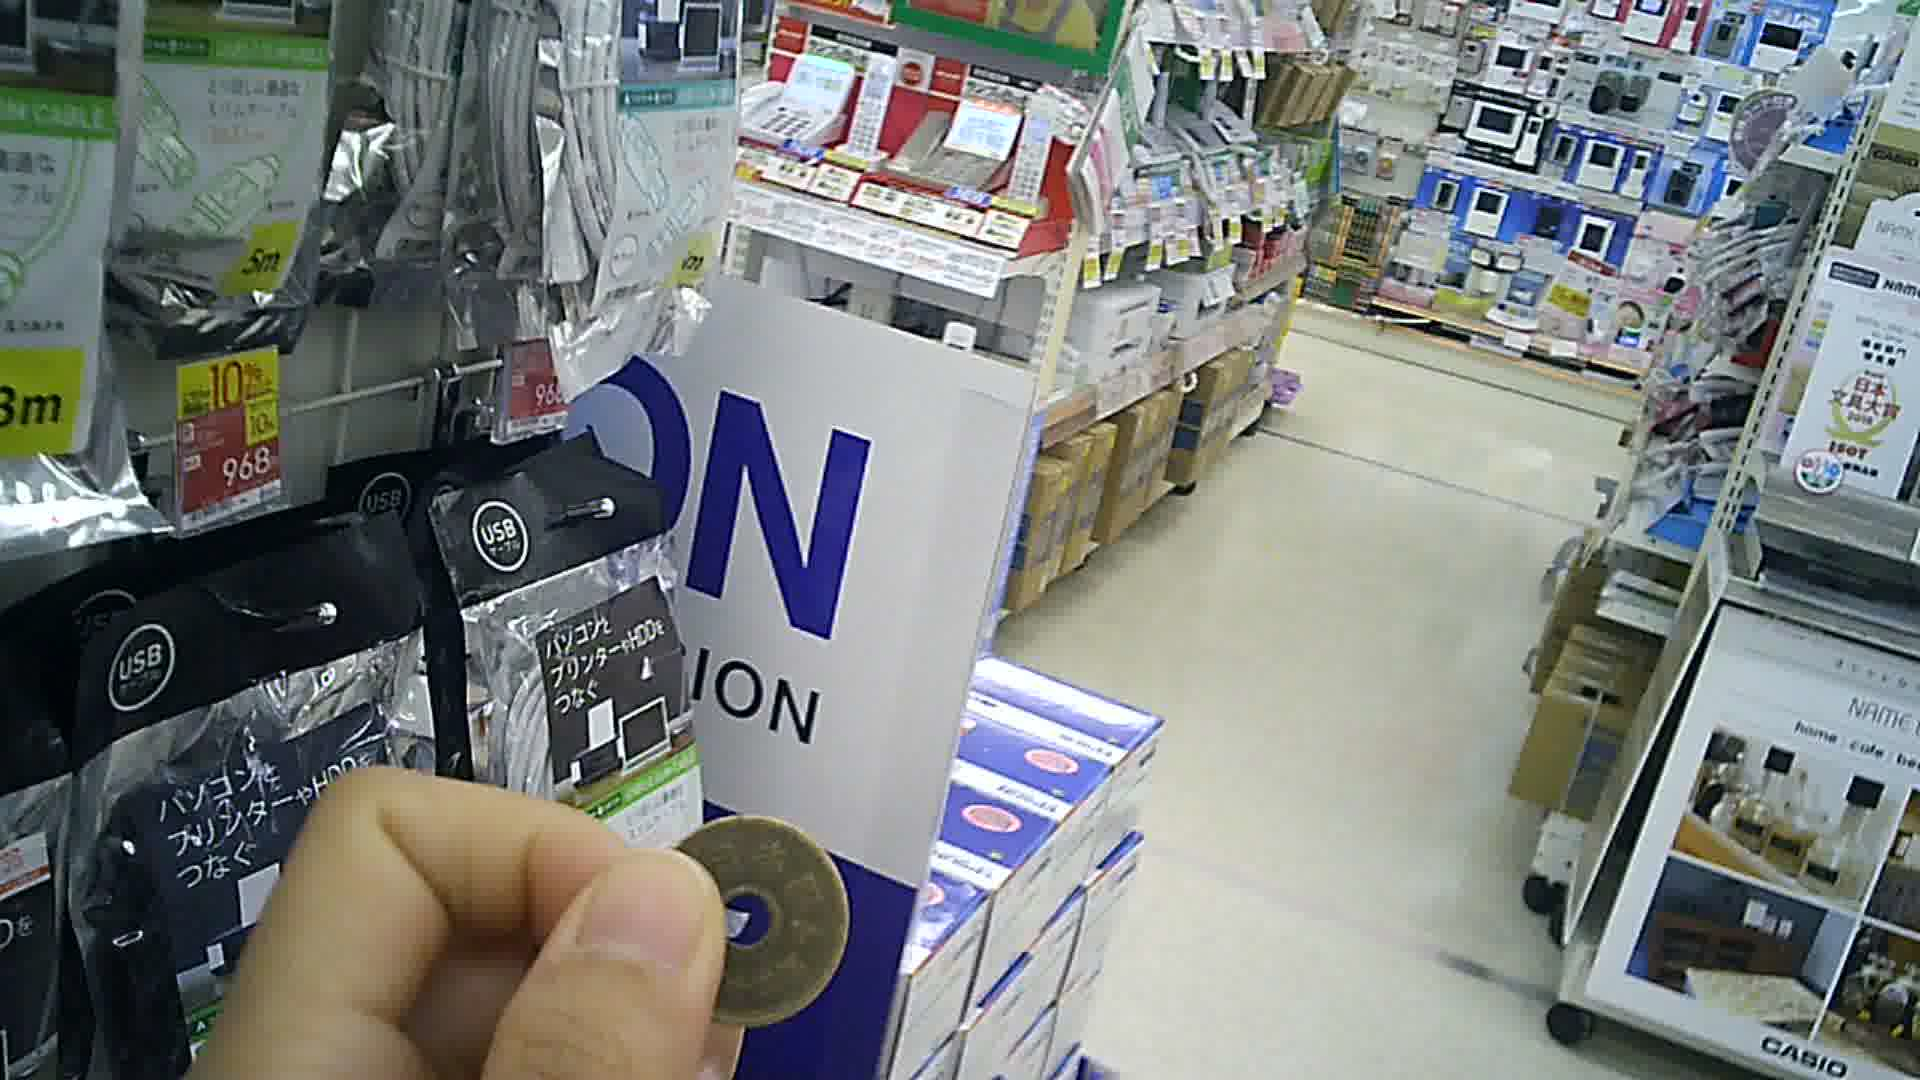5 Yen: (655, 804, 856, 1029)
